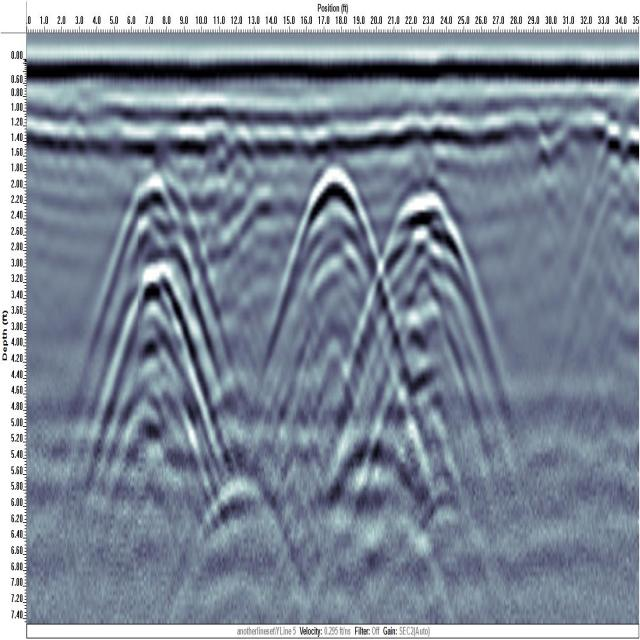hyperbola: (108, 171, 208, 402), (117, 256, 209, 468), (376, 171, 471, 374), (287, 151, 379, 332)
